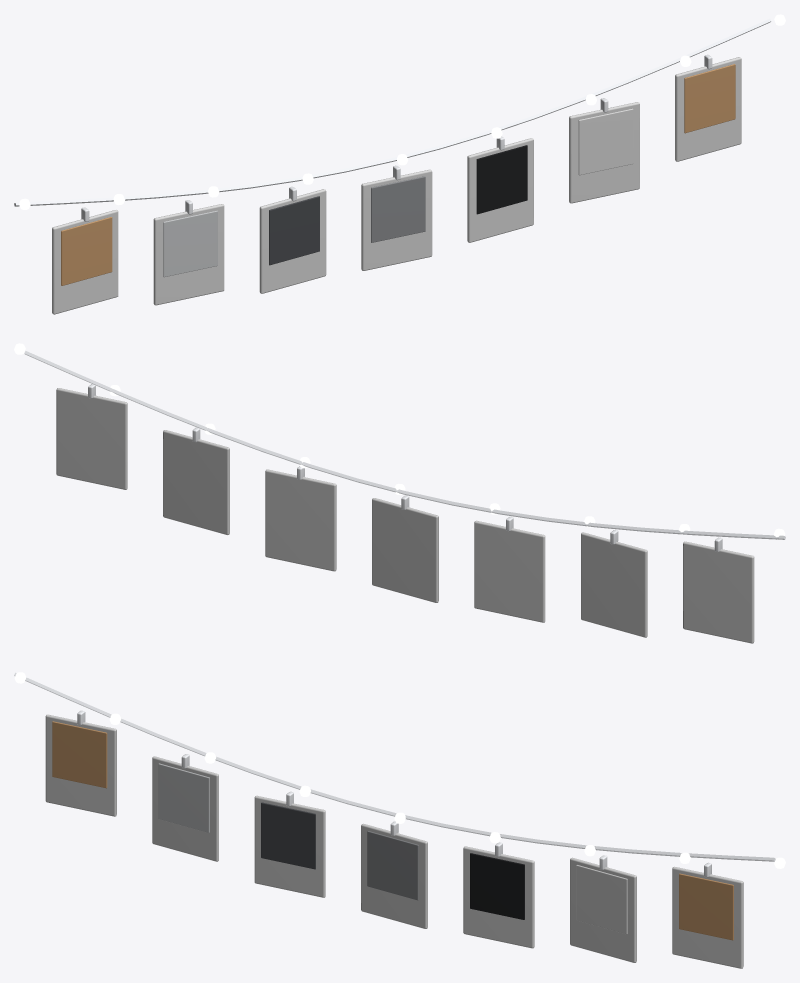
The model's file is polaroid_wall_string.glb.
3 views of the same model, one above another, from view 1: azimuth 30°, elevation 25°; view 2: azimuth 150°, elevation 25°; view 3: azimuth 330°, elevation 25° (orthographic).
Visible parts, largest first — view 1: polaroid_wall_string; view 2: polaroid_wall_string; view 3: polaroid_wall_string.
Part boxes in pixels (box(x1,y1,x2,y2)): polaroid_wall_string: box(14, 14, 785, 314); polaroid_wall_string: box(14, 343, 785, 643); polaroid_wall_string: box(14, 672, 785, 968).
Size of the model in its own units: 2.03 by 0.394 by 0.029.
